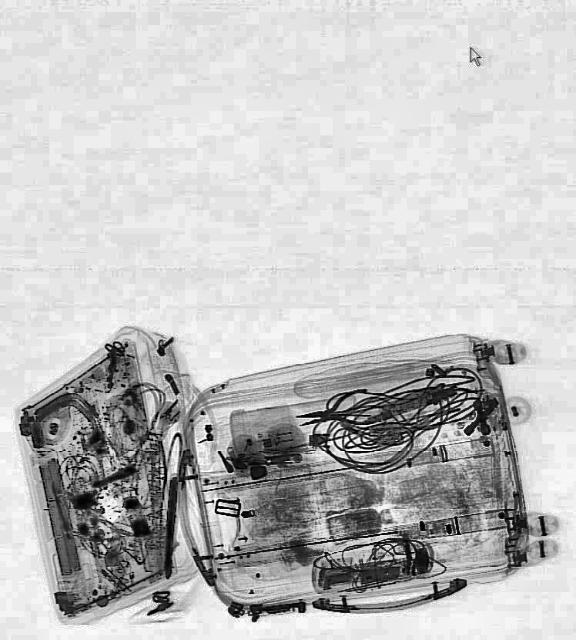Pliers: (292, 386, 374, 438)
